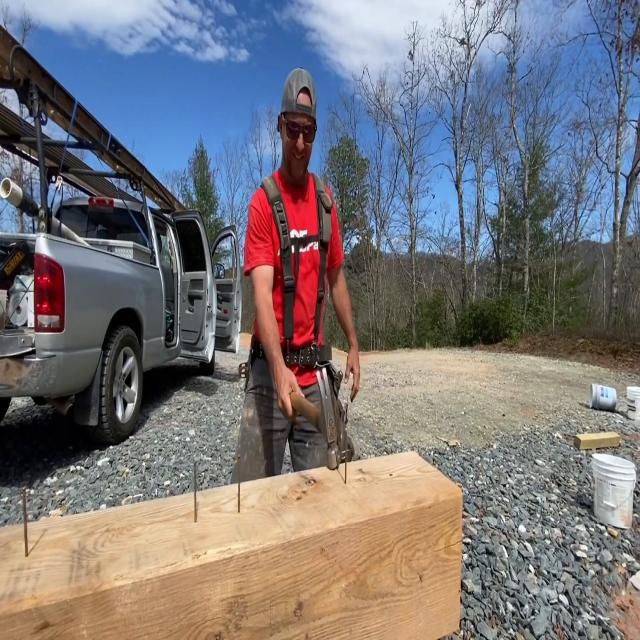hammer: (290, 367, 338, 472)
